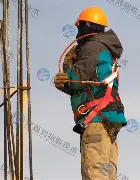safety belt: (59, 44, 129, 129)
